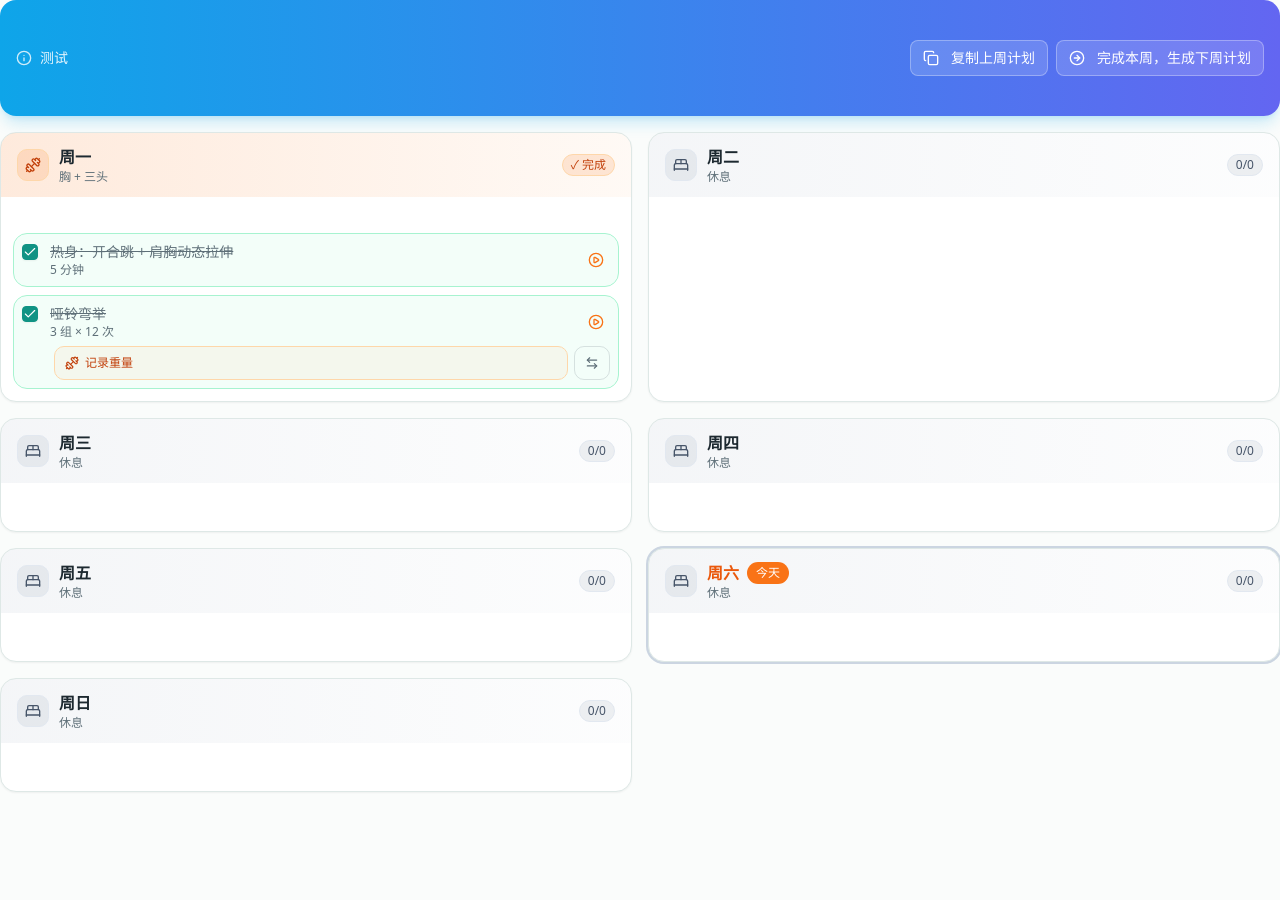
Test case: 动作替换 › 点选候选：槽位被替换，该槽位打卡清除，其他槽位打卡保留
This screenshot has width=1280, height=900.
Click the 6th button.
click(592, 363)  # box 574,346 -> 610,380
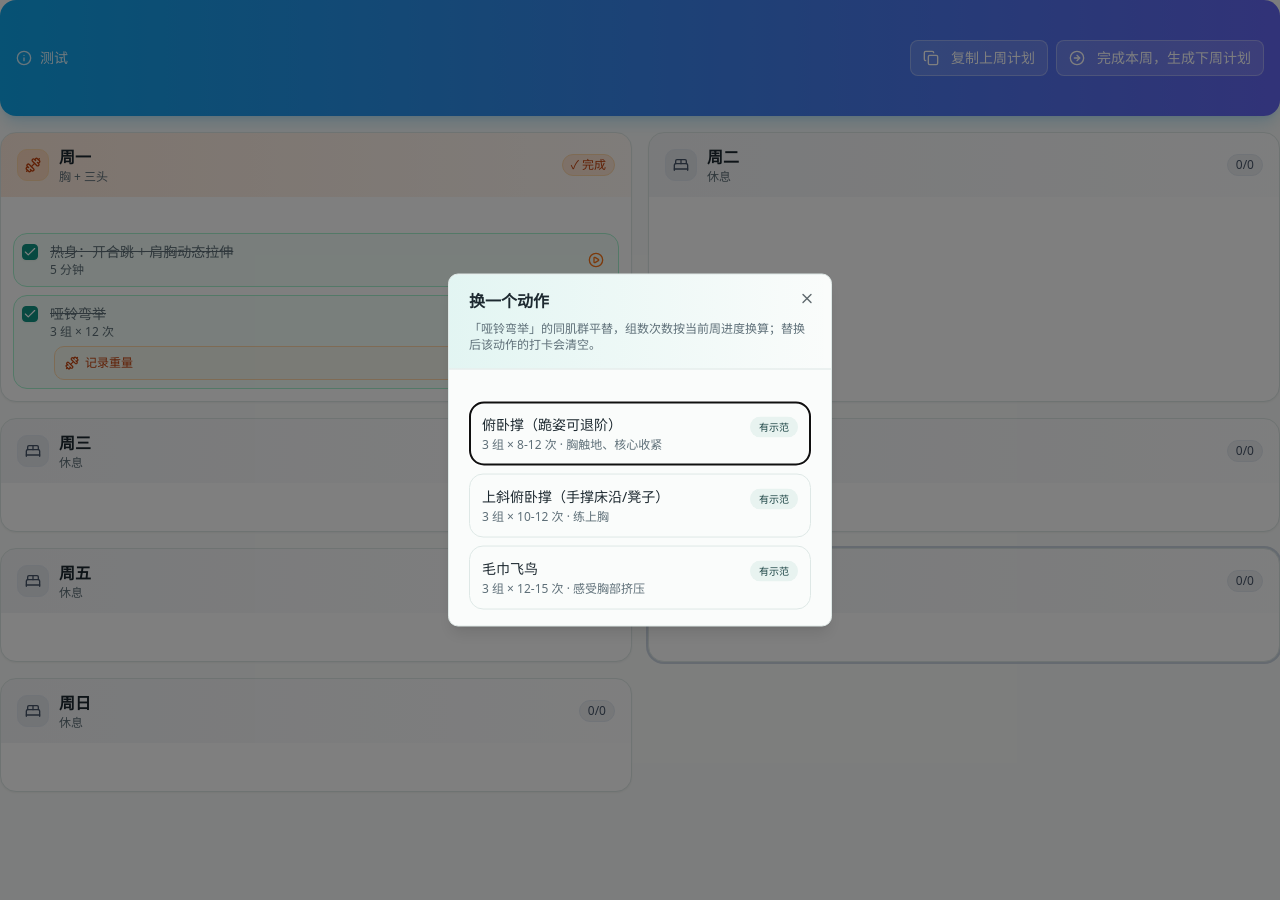
Click the text "毛巾飞鸟".
click(510, 568)  # box 482,558 -> 538,578
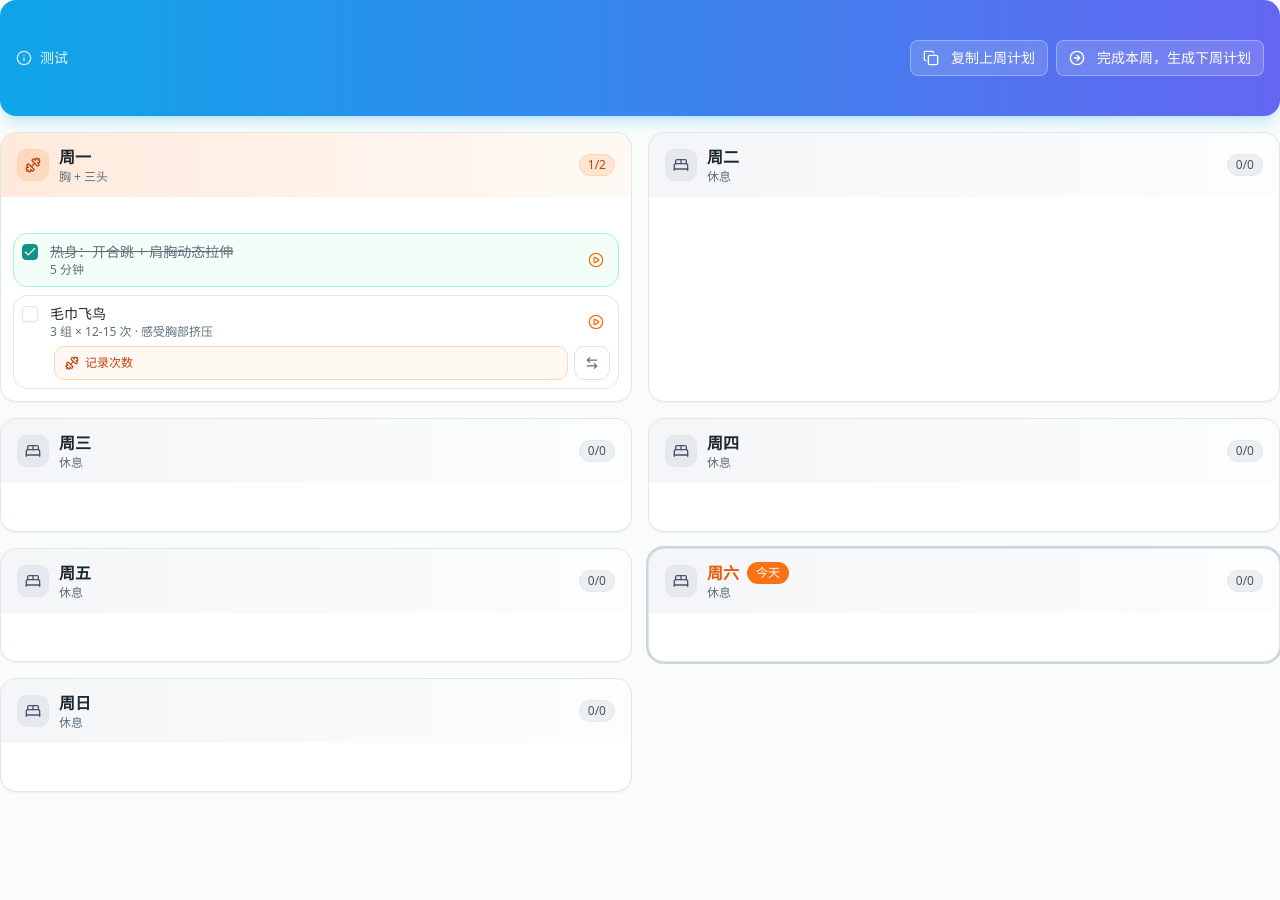
Result: the dialog is gone
Result: the text "哑铃弯举" is gone
